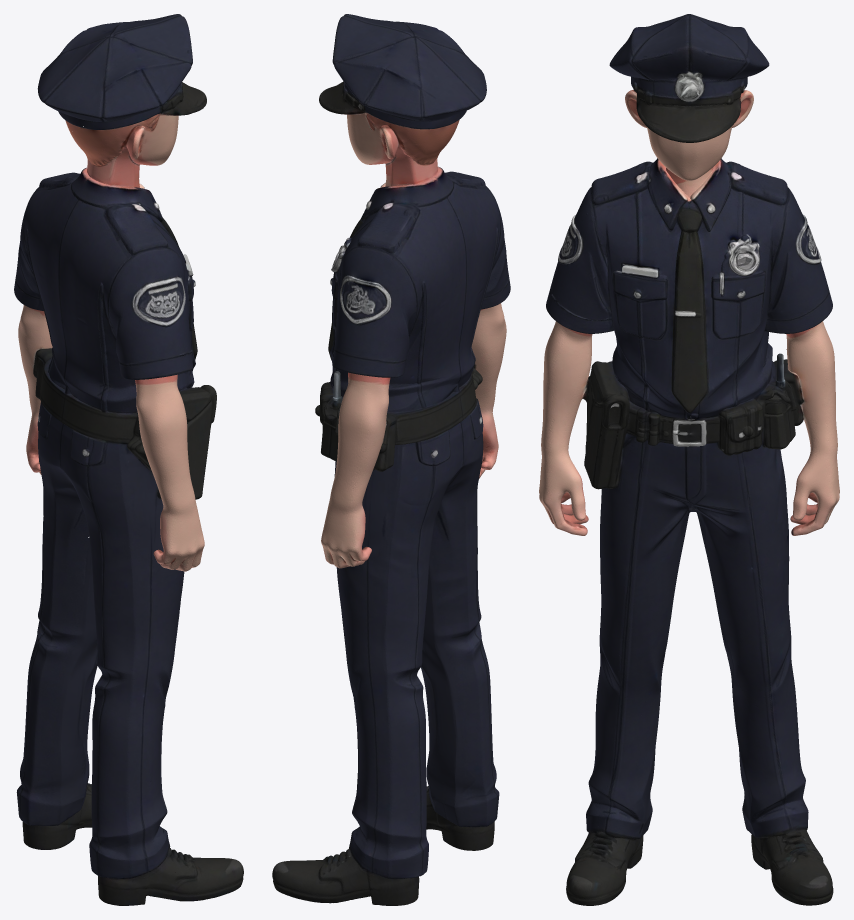
The model's file is police+officer+3d+model (1).glb.
3 views of the same model, side by side, from view 1: azimuth 30°, elevation 25°; view 2: azimuth 150°, elevation 25°; view 3: azimuth 270°, elevation 25° (orthographic). The views are drawn at different scales.
Visible parts, largest first — view 1: tripo_node_d00b230b-5d51-48a6-8017-44e85ce70724; view 2: tripo_node_d00b230b-5d51-48a6-8017-44e85ce70724; view 3: tripo_node_d00b230b-5d51-48a6-8017-44e85ce70724.
Boxes of the visible parts, box(x1,y1,x2,y2) form: tripo_node_d00b230b-5d51-48a6-8017-44e85ce70724: box(14, 14, 243, 905); tripo_node_d00b230b-5d51-48a6-8017-44e85ce70724: box(272, 14, 510, 905); tripo_node_d00b230b-5d51-48a6-8017-44e85ce70724: box(539, 14, 839, 905).
Bounding box in the file's own units: 0.1996 × 1 × 0.3169.
1 material, 1 textured.
